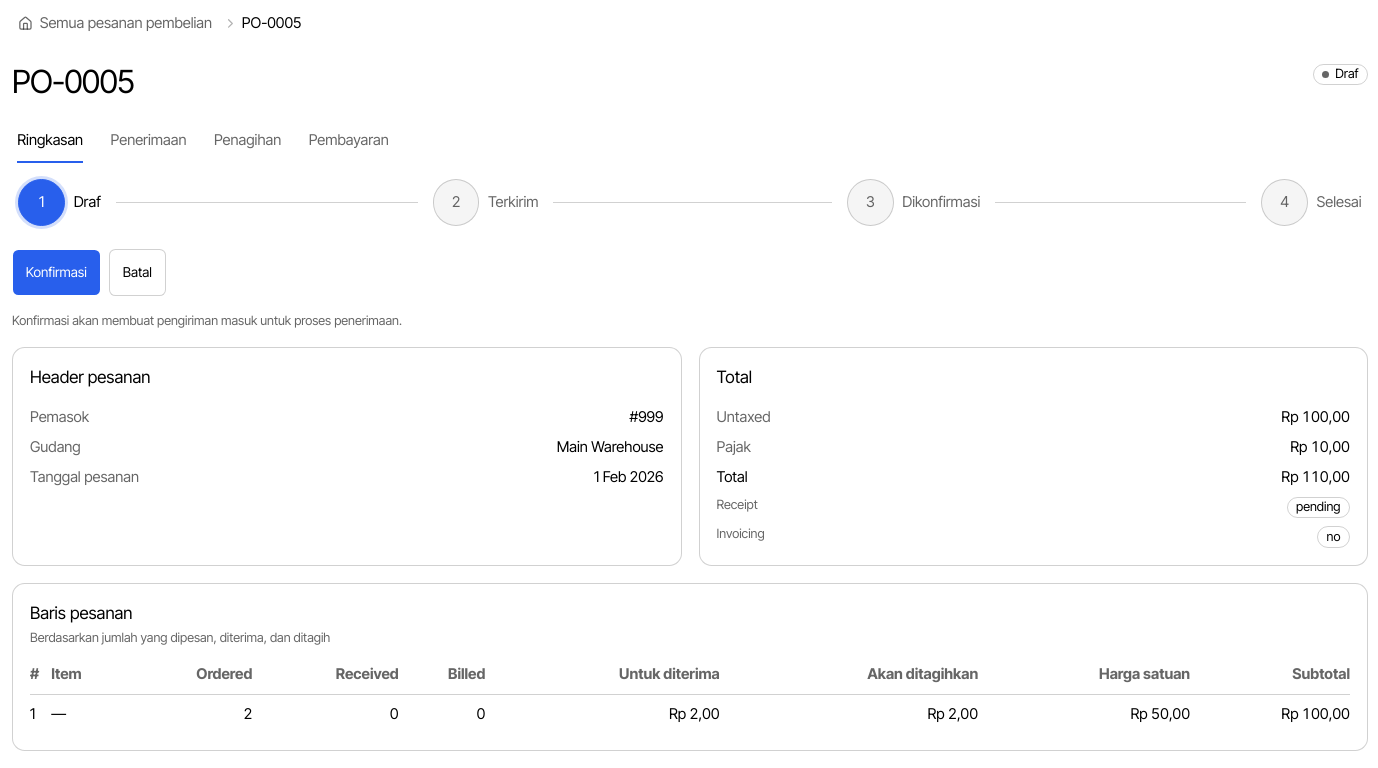
Scenario: PurchaseOrderDetail branches5 › falls back for unknown contacts, null products and unnamed shipments
The width and height of the screenshot is (1378, 768).
Expected: the text "#999" is shown, [630,407,664,429]
Expected: the text "—" is shown, [51,695,122,733]
What coordinates should you click on to do the following:
click the tab "Penerimaan"
I would click on:
 (148, 141)
Its box is [110,117,187,164].
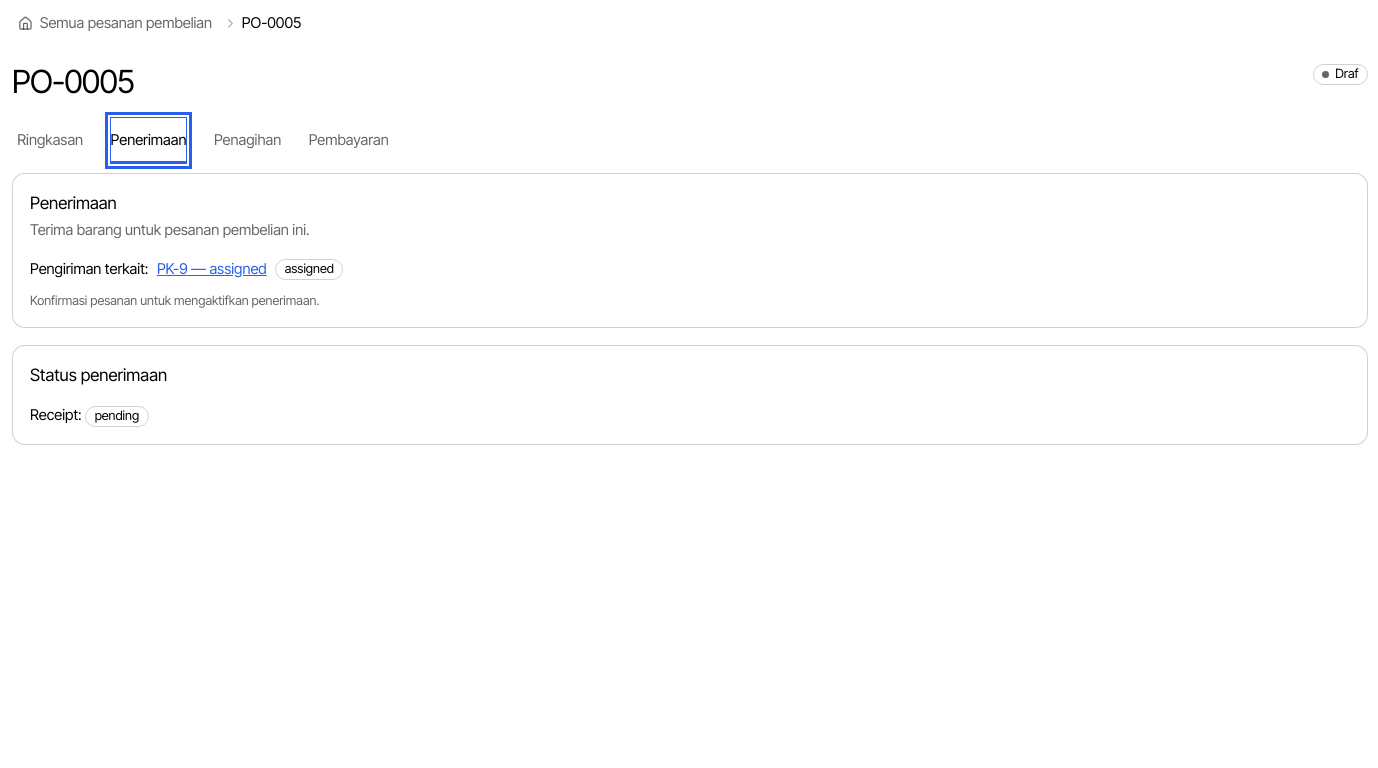
Expected: the link "PK-9 — assigned" is shown, [157,259,267,280]
